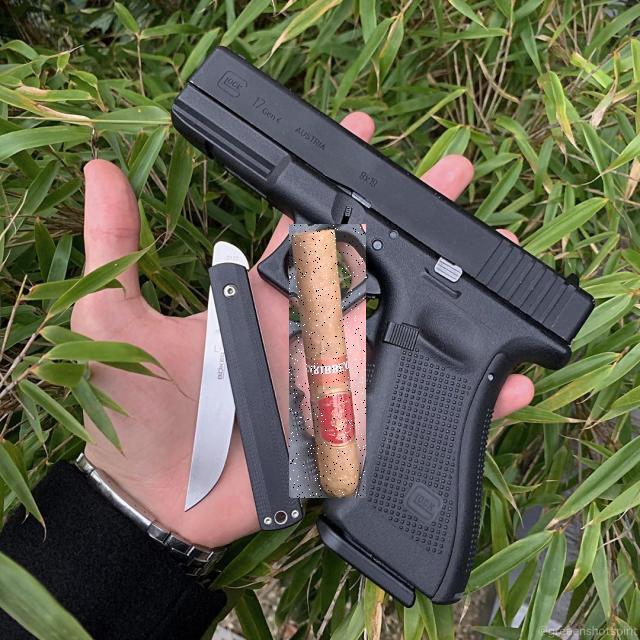smoking: (289, 225, 366, 499)
